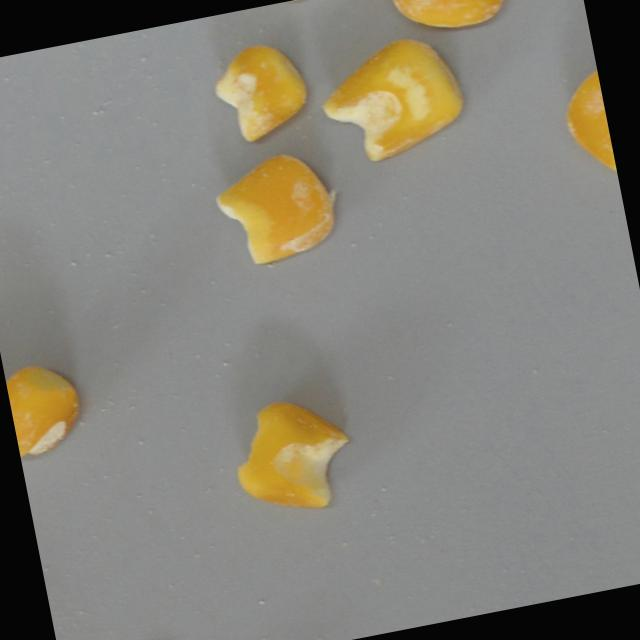no_canjicado: (225, 389, 362, 521)
pelicula: (312, 29, 472, 168), (207, 143, 341, 268), (207, 37, 313, 146), (3, 355, 89, 458), (557, 59, 617, 180), (391, 0, 514, 40)
